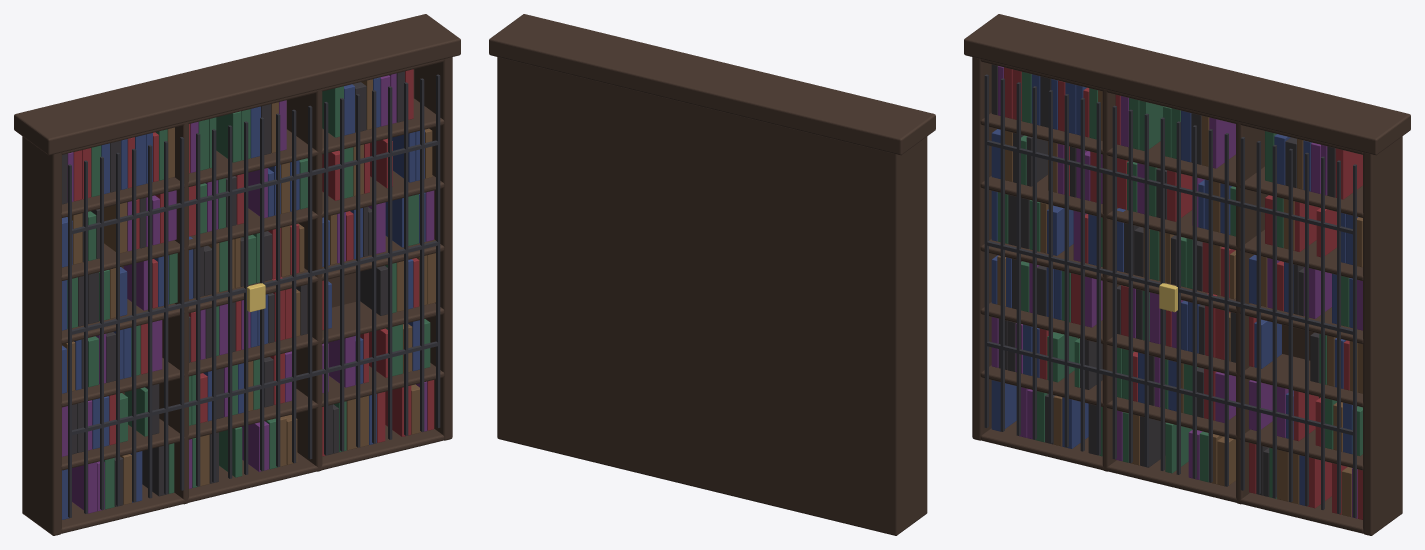
The model's file is wall_bookcase_locked.glb.
The picture shows the model from 3 angles, left to right: view 1: azimuth 30°, elevation 25°; view 2: azimuth 150°, elevation 25°; view 3: azimuth 330°, elevation 25°; orthographic projection.
Parts seen in each view (by area): view 1: GD_wall_bookcase_locked__m0, GD_wall_bookcase_locked__m7, GD_wall_bookcase_locked__m5, GD_wall_bookcase_locked__m2, GD_wall_bookcase_locked__m4, GD_wall_bookcase_locked__m6, GD_wall_bookcase_locked__m3, GD_wall_bookcase_locked__m1; view 2: GD_wall_bookcase_locked__m0; view 3: GD_wall_bookcase_locked__m0, GD_wall_bookcase_locked__m7, GD_wall_bookcase_locked__m4, GD_wall_bookcase_locked__m5, GD_wall_bookcase_locked__m3, GD_wall_bookcase_locked__m2, GD_wall_bookcase_locked__m6, GD_wall_bookcase_locked__m1.
Part boxes in pixels (left/top/right/bottom): GD_wall_bookcase_locked__m0: left=14, top=14, right=460, bottom=535; GD_wall_bookcase_locked__m7: left=68, top=74, right=440, bottom=517; GD_wall_bookcase_locked__m5: left=67, top=86, right=430, bottom=509; GD_wall_bookcase_locked__m2: left=62, top=71, right=404, bottom=506; GD_wall_bookcase_locked__m4: left=62, top=77, right=425, bottom=519; GD_wall_bookcase_locked__m6: left=62, top=73, right=434, bottom=513; GD_wall_bookcase_locked__m3: left=73, top=69, right=434, bottom=456; GD_wall_bookcase_locked__m1: left=62, top=79, right=435, bottom=504; GD_wall_bookcase_locked__m0: left=489, top=14, right=935, bottom=535; GD_wall_bookcase_locked__m0: left=964, top=14, right=1410, bottom=535; GD_wall_bookcase_locked__m7: left=984, top=74, right=1356, bottom=517; GD_wall_bookcase_locked__m4: left=991, top=74, right=1357, bottom=505; GD_wall_bookcase_locked__m5: left=997, top=72, right=1362, bottom=498; GD_wall_bookcase_locked__m3: left=1004, top=67, right=1362, bottom=519; GD_wall_bookcase_locked__m2: left=991, top=64, right=1335, bottom=496; GD_wall_bookcase_locked__m6: left=991, top=66, right=1362, bottom=518; GD_wall_bookcase_locked__m1: left=997, top=90, right=1362, bottom=516.
Size of the model in its own units: 2.58 by 2.39 by 0.41.
